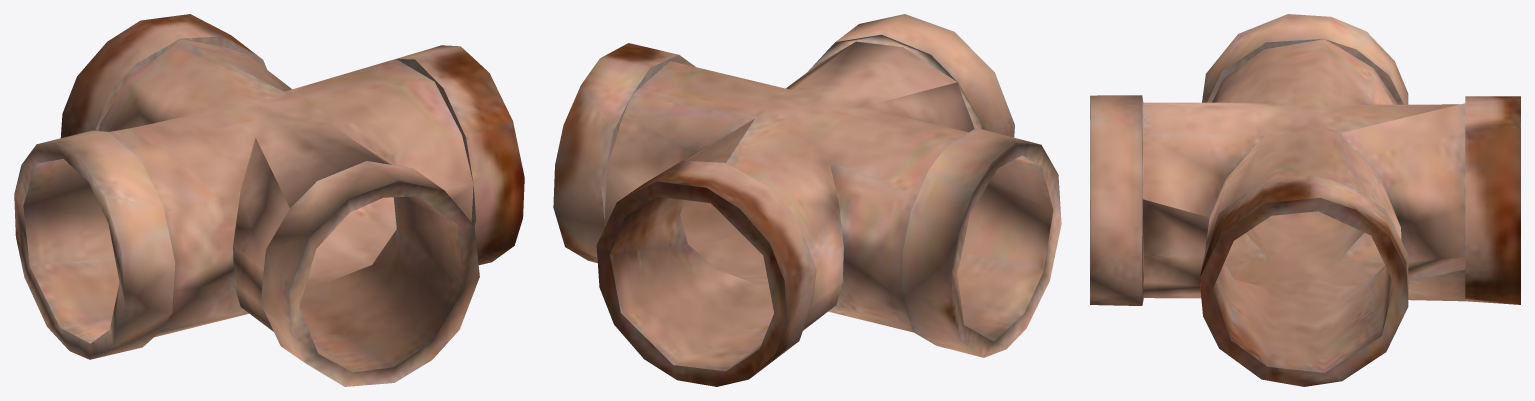
The model's file is small_copper_pipe_09.glb.
3 renders of one model, left to right at view 1: azimuth 30°, elevation 25°; view 2: azimuth 150°, elevation 25°; view 3: azimuth 270°, elevation 25°, orthographic. The views are drawn at different scales.
Parts seen in each view (by area): view 1: small_copper_pipe_09; view 2: small_copper_pipe_09; view 3: small_copper_pipe_09.
Boxes of the visible parts, x1,y1,x2,y2 form: small_copper_pipe_09: (14,14,524,386); small_copper_pipe_09: (553,14,1061,386); small_copper_pipe_09: (1090,14,1520,386).
Size of what is drawn, in the model's own units: 0.0447 by 0.0216 by 0.0443.
1 material, 1 textured.
